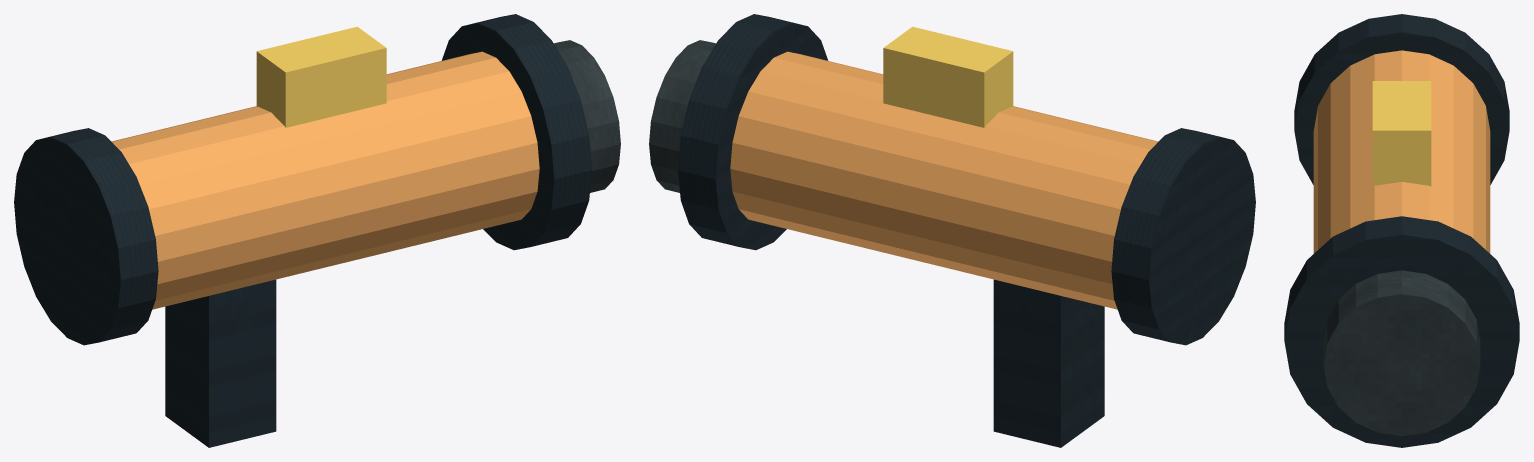
File: bp_weaponheavy.glb
3 renders of one model, left to right at view 1: azimuth 30°, elevation 25°; view 2: azimuth 150°, elevation 25°; view 3: azimuth 270°, elevation 25°, orthographic.
Visible parts, largest first — view 1: LauncherTube, TubeRing, Grip.001, TubeRing.001, Sight, Muzzle; view 2: LauncherTube, TubeRing, Grip.001, TubeRing.001, Sight, Muzzle; view 3: LauncherTube, TubeRing.001, Muzzle, TubeRing, Sight.
Boxes of the visible parts, x1,y1,x2,y2 form: LauncherTube: (111,51,539,309); TubeRing: (14,128,158,345); Grip.001: (165,279,276,447); TubeRing.001: (441,14,591,250); Sight: (256,26,386,127); Muzzle: (554,40,620,192); LauncherTube: (730,51,1158,309); TubeRing: (1111,128,1255,345); Grip.001: (993,279,1104,447); TubeRing.001: (678,14,828,250); Sight: (883,26,1013,127); Muzzle: (649,40,715,192); LauncherTube: (1313,50,1490,253); TubeRing.001: (1284,216,1519,447); Muzzle: (1323,270,1480,436); TubeRing: (1294,14,1509,184); Sight: (1372,81,1431,186).
Bounding box in the file's own units: 1.22 × 0.795 × 0.48.
4 materials, 2 textured.
